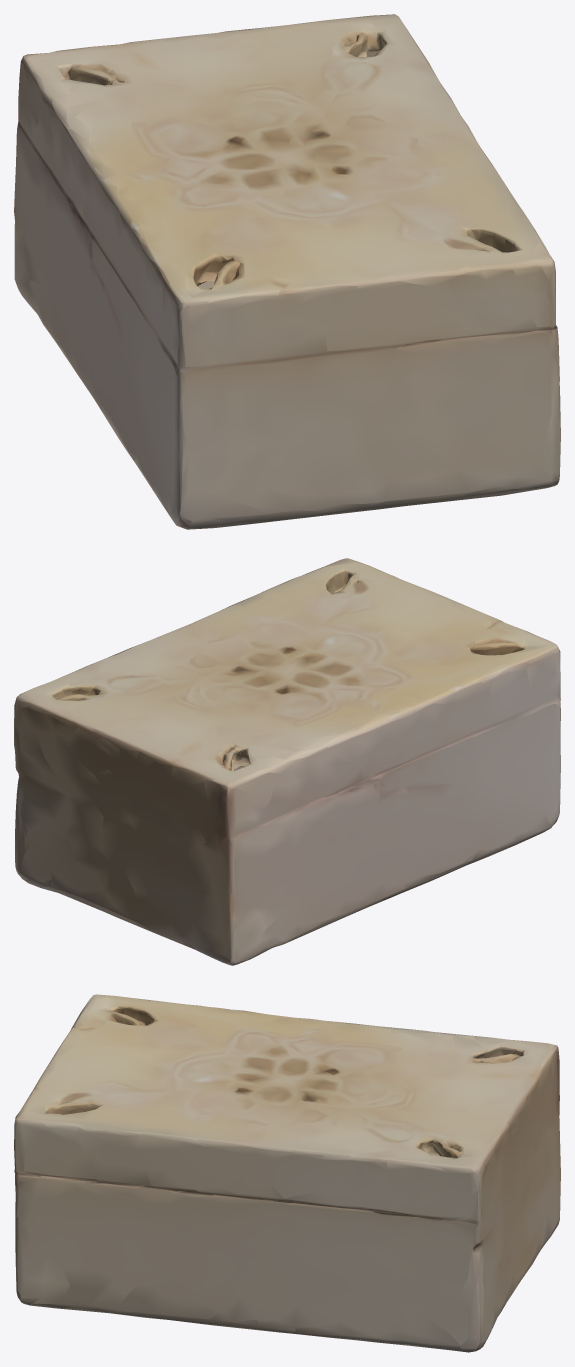
The model's file is 0004_mask_005_wooden_box.glb.
3 views of the same model, one above another, from view 1: azimuth 30°, elevation 25°; view 2: azimuth 150°, elevation 25°; view 3: azimuth 270°, elevation 25° (orthographic). The views are drawn at different scales.
Parts seen in each view (by area): view 1: mask_005_object; view 2: mask_005_object; view 3: mask_005_object.
Part boxes in pixels (x1,y1,x2,y2): mask_005_object: (14,14,560,529); mask_005_object: (14,558,560,965); mask_005_object: (14,994,560,1352).
Size of the model in its own units: 0.158 by 0.0782 by 0.2049.
